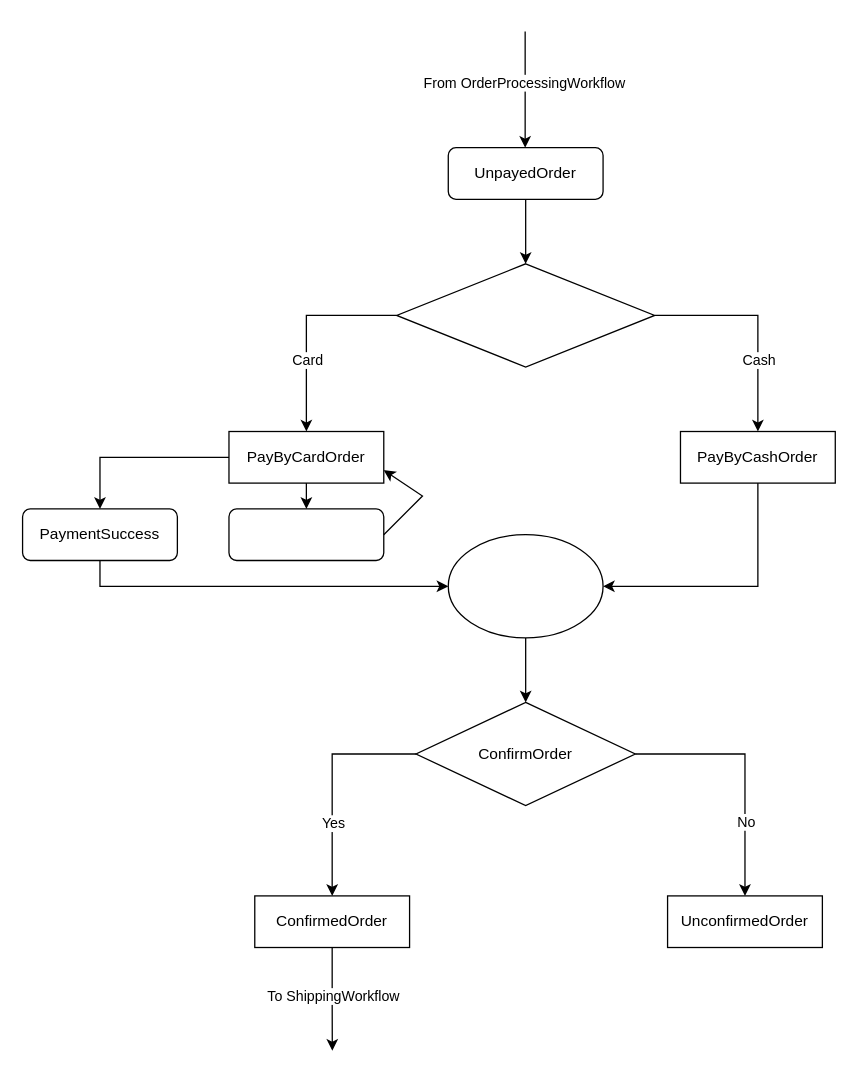
This 858x1084 diagram has some shape labels left out. Here are the shapes that lost their labels. From the top down, the centre of each, then its label:
(x=525, y=315): ChoosePaymentMethod
(x=306, y=534): Fail
(x=525, y=585): OR
